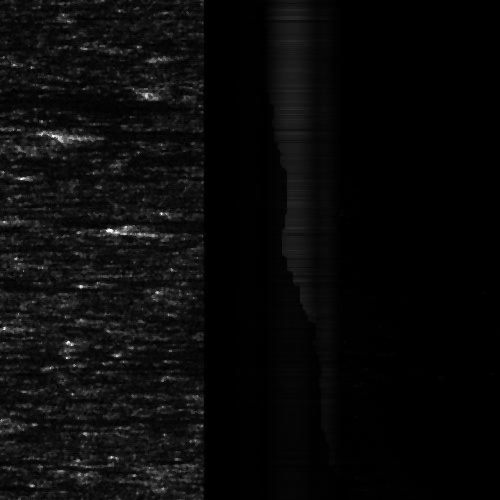object: (0, 405, 90, 428), (42, 122, 135, 139), (0, 213, 91, 228)
shadow: (2, 405, 167, 428), (0, 8, 126, 29), (89, 122, 179, 139), (23, 213, 112, 228), (0, 480, 112, 487)
